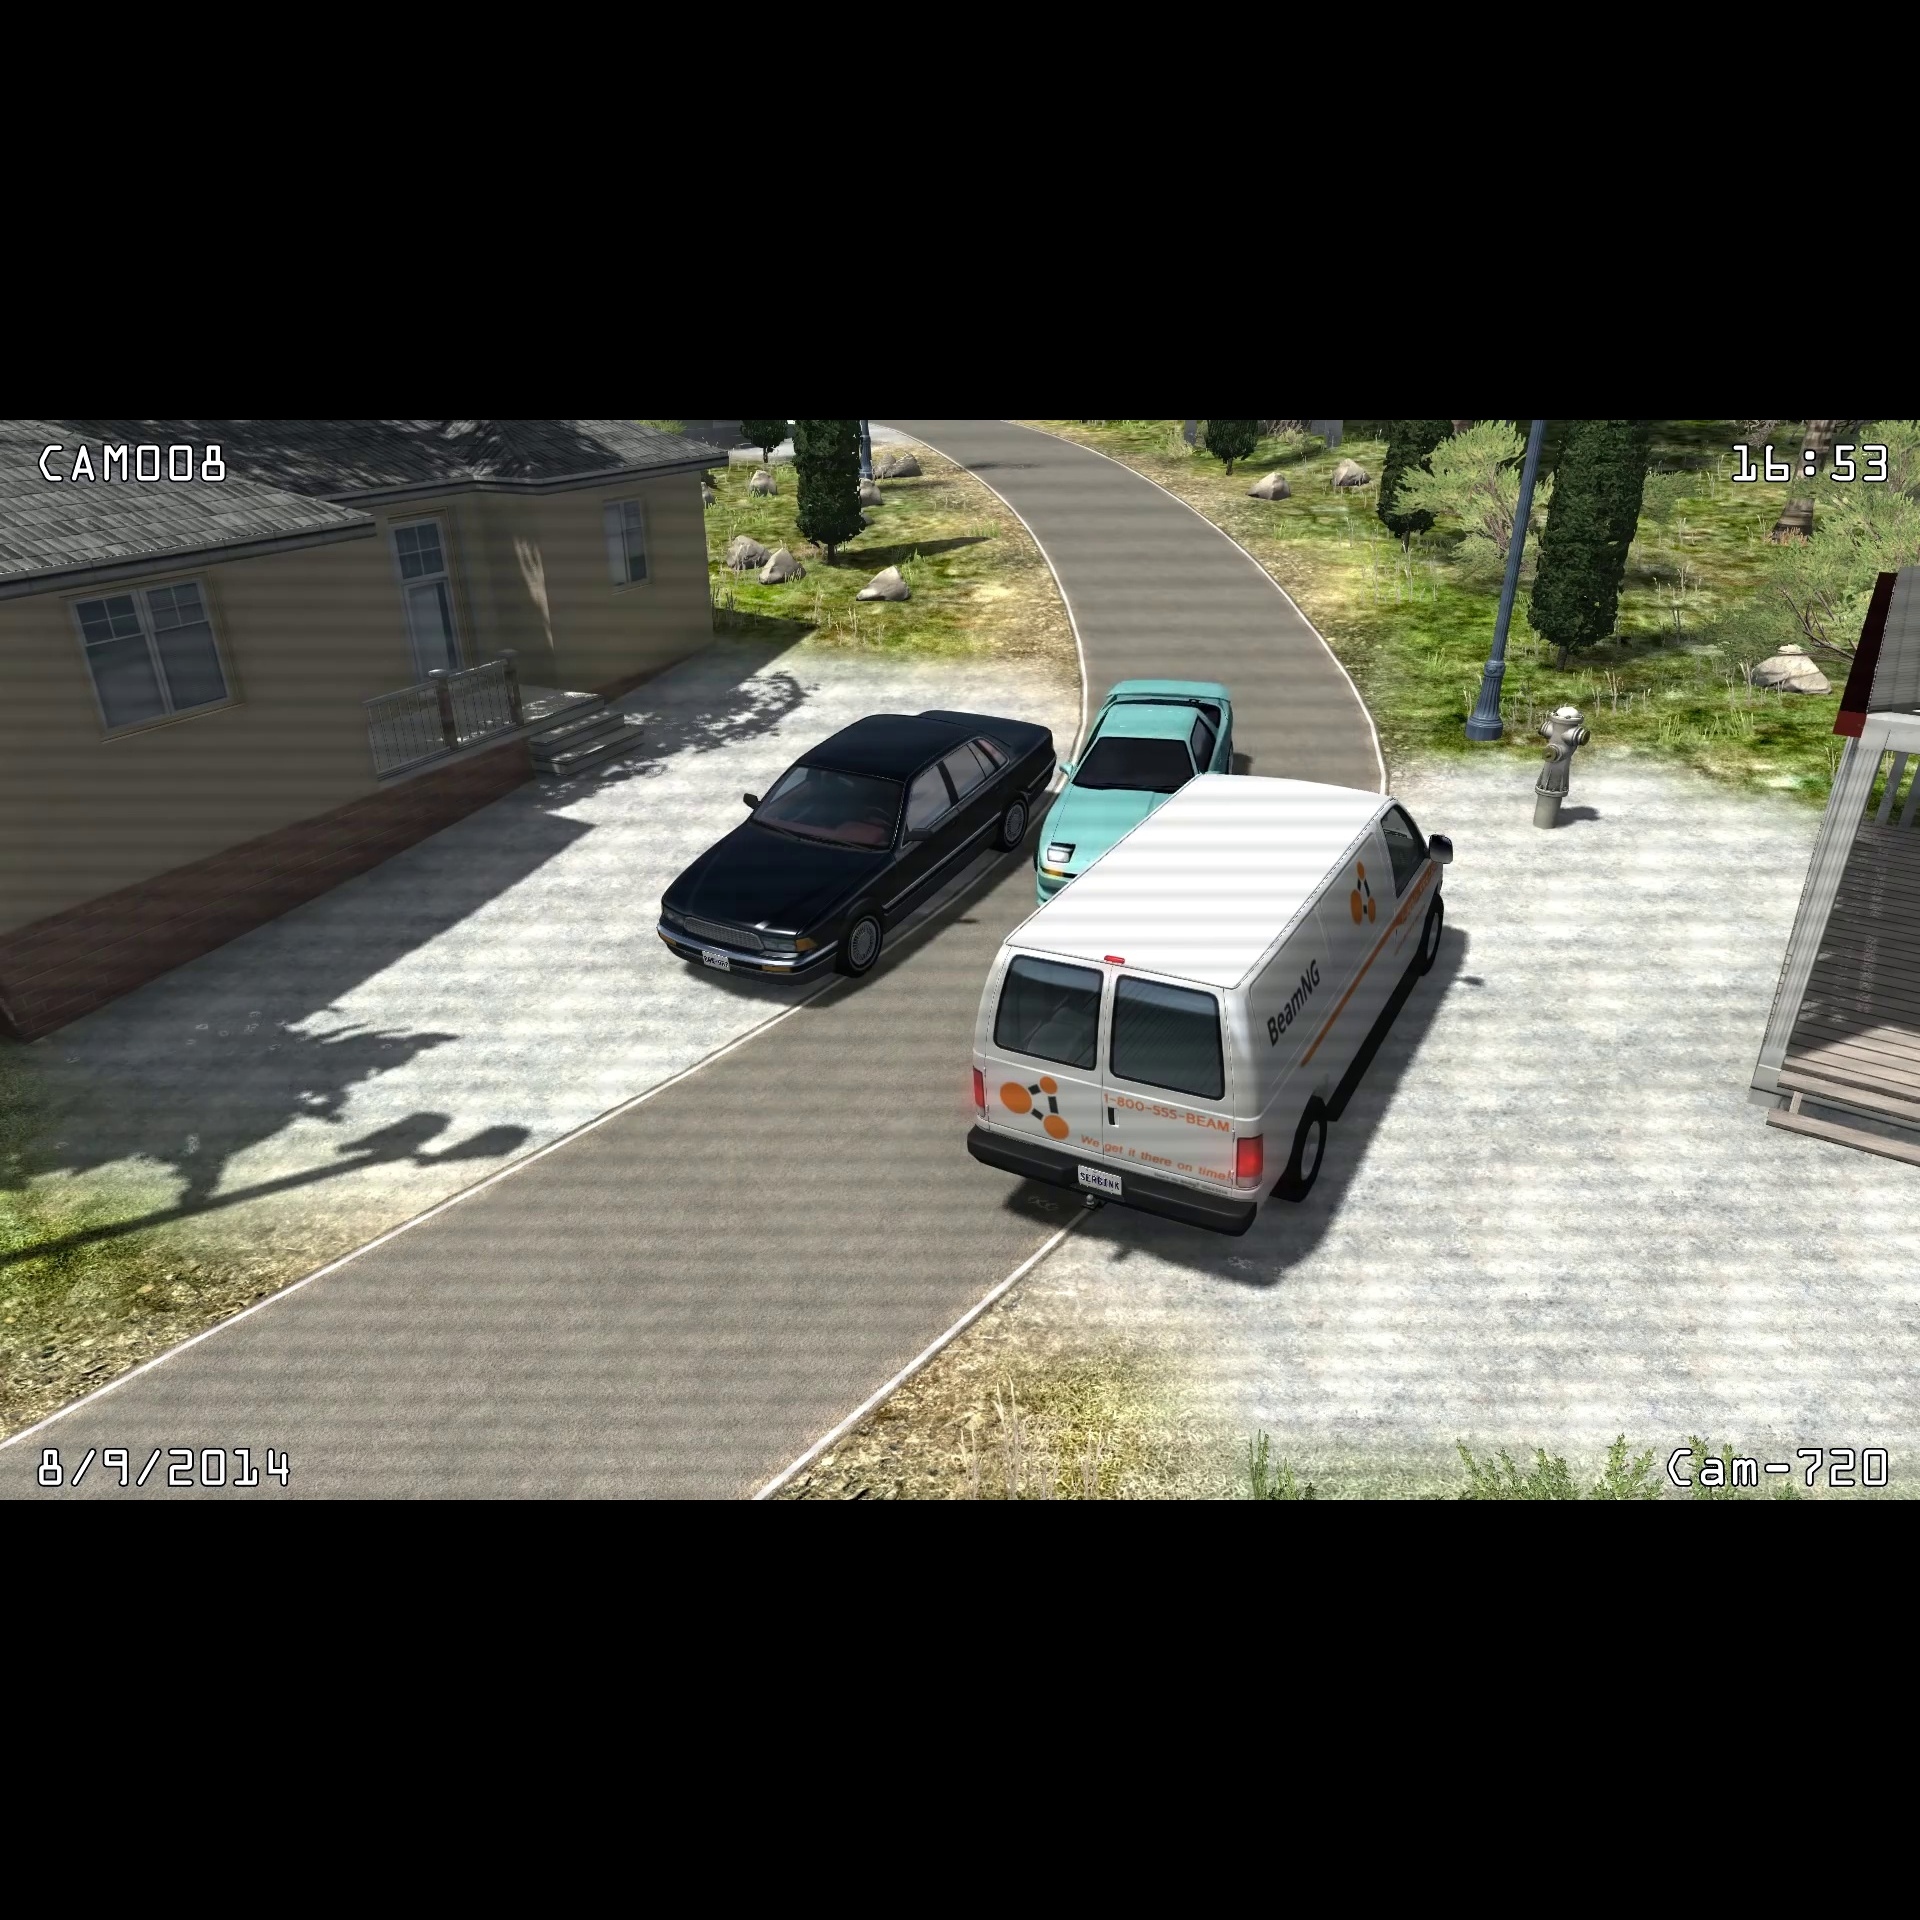vehicle: (960, 753, 1461, 1241), (652, 696, 1060, 995), (1030, 661, 1240, 898)
